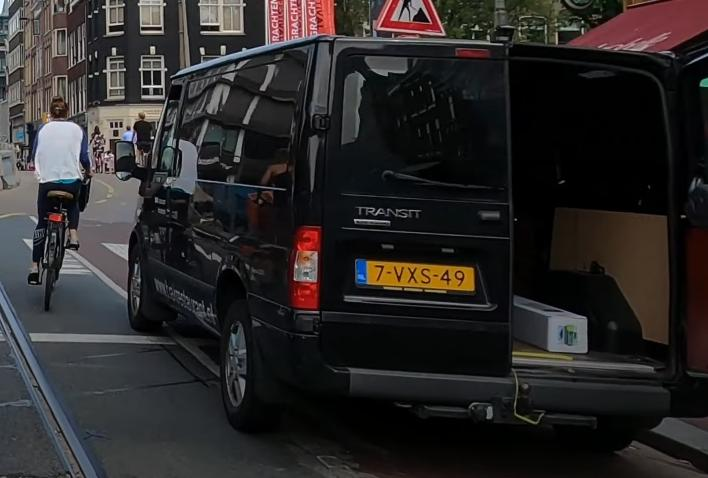license-plate: (357, 259, 476, 293)
